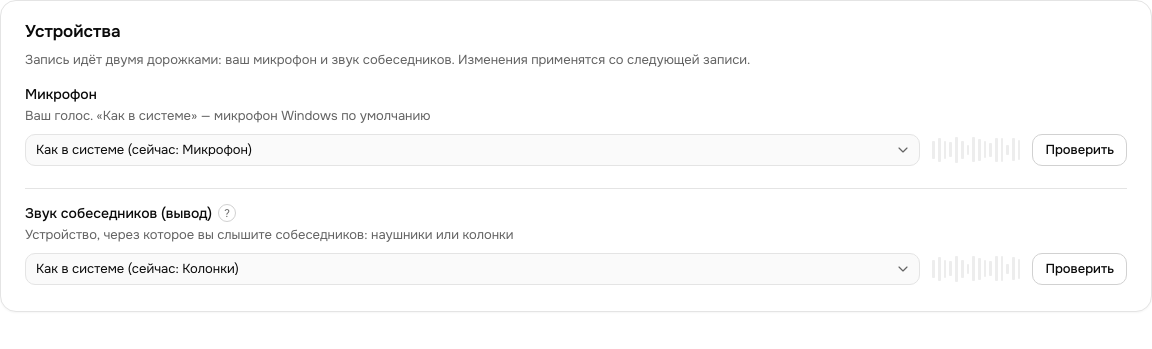
отказ резидента (идёт запись) — текстом
Click the 1st button "Проверить" at [1080, 150], box [1032,134,1127,166]
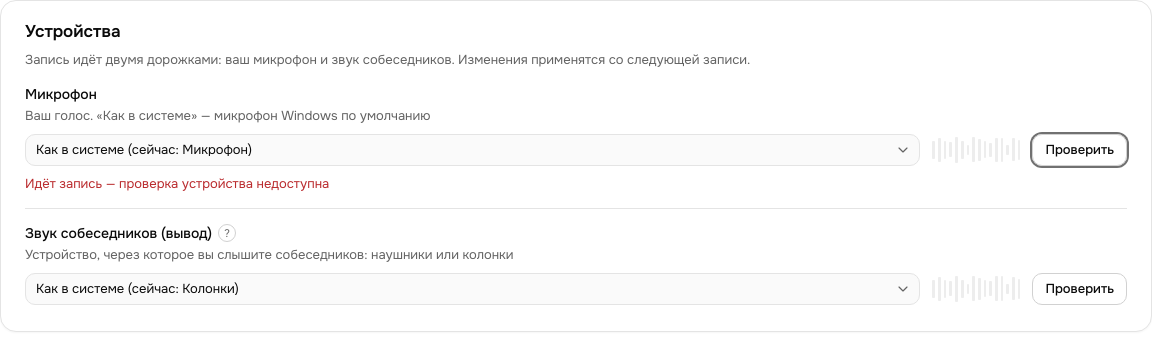
expect the text "Идёт запись — проверка устройства недоступна" is shown: met, box [25,174,329,194]
